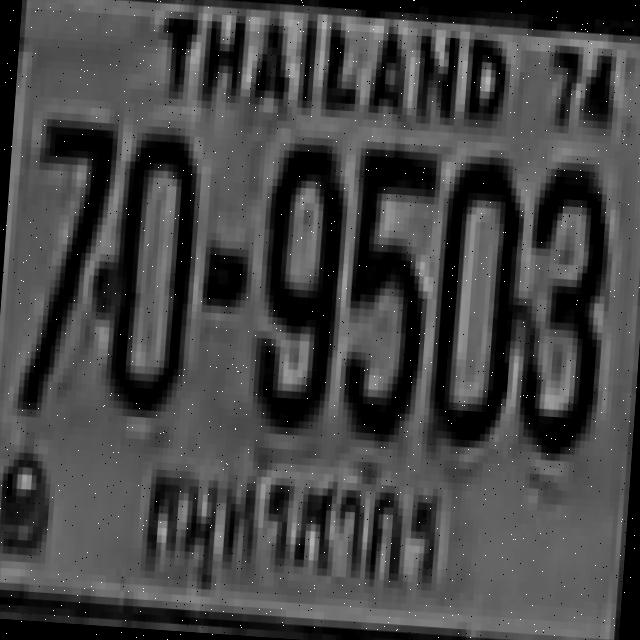0: (94, 124, 200, 412), (422, 146, 523, 442)
3: (508, 152, 609, 448)
5: (337, 140, 438, 436)
7: (17, 110, 114, 407), (29, 111, 114, 312)
9: (248, 133, 344, 430)
SamutSakhon: (126, 446, 463, 630)
